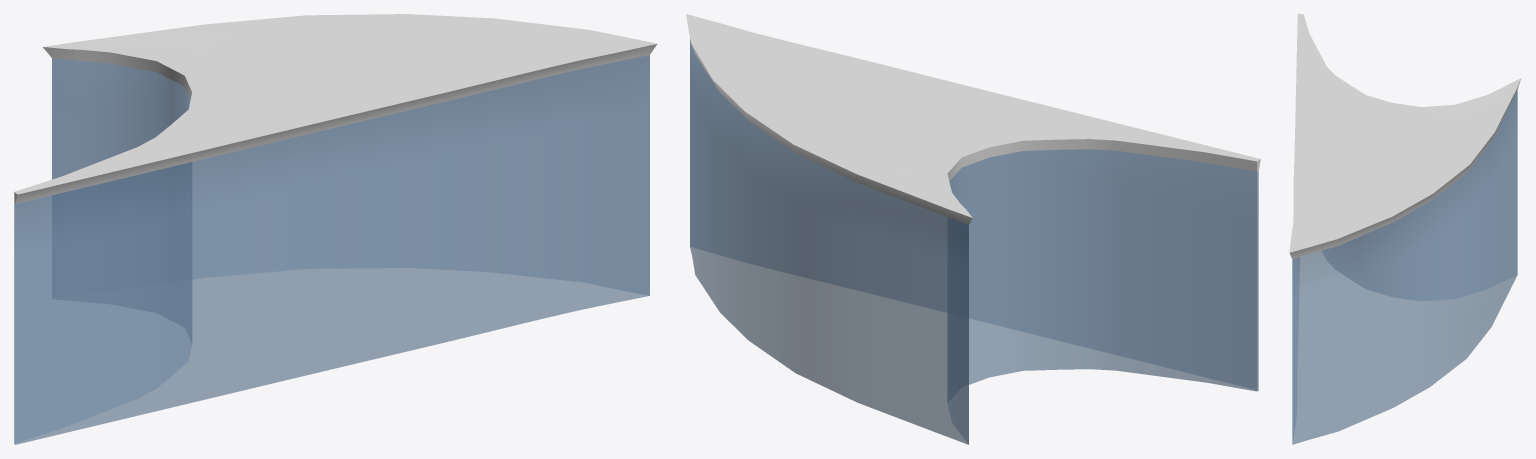
File: aquarium_petit_hall.fbx
3 renders of one model, left to right at view 1: azimuth 30°, elevation 25°; view 2: azimuth 150°, elevation 25°; view 3: azimuth 270°, elevation 25°, orthographic. The views are drawn at different scales.
Parts seen in each view (by area): view 1: aquarium_couloir.001; view 2: aquarium_couloir.001; view 3: aquarium_couloir.001.
Boxes of the visible parts, x1,y1,x2,y2 form: aquarium_couloir.001: [14, 14, 657, 444]; aquarium_couloir.001: [686, 14, 1260, 444]; aquarium_couloir.001: [1289, 14, 1521, 444].
Bounding box in the file's own units: 10.55 × 4.33 × 4.01.
